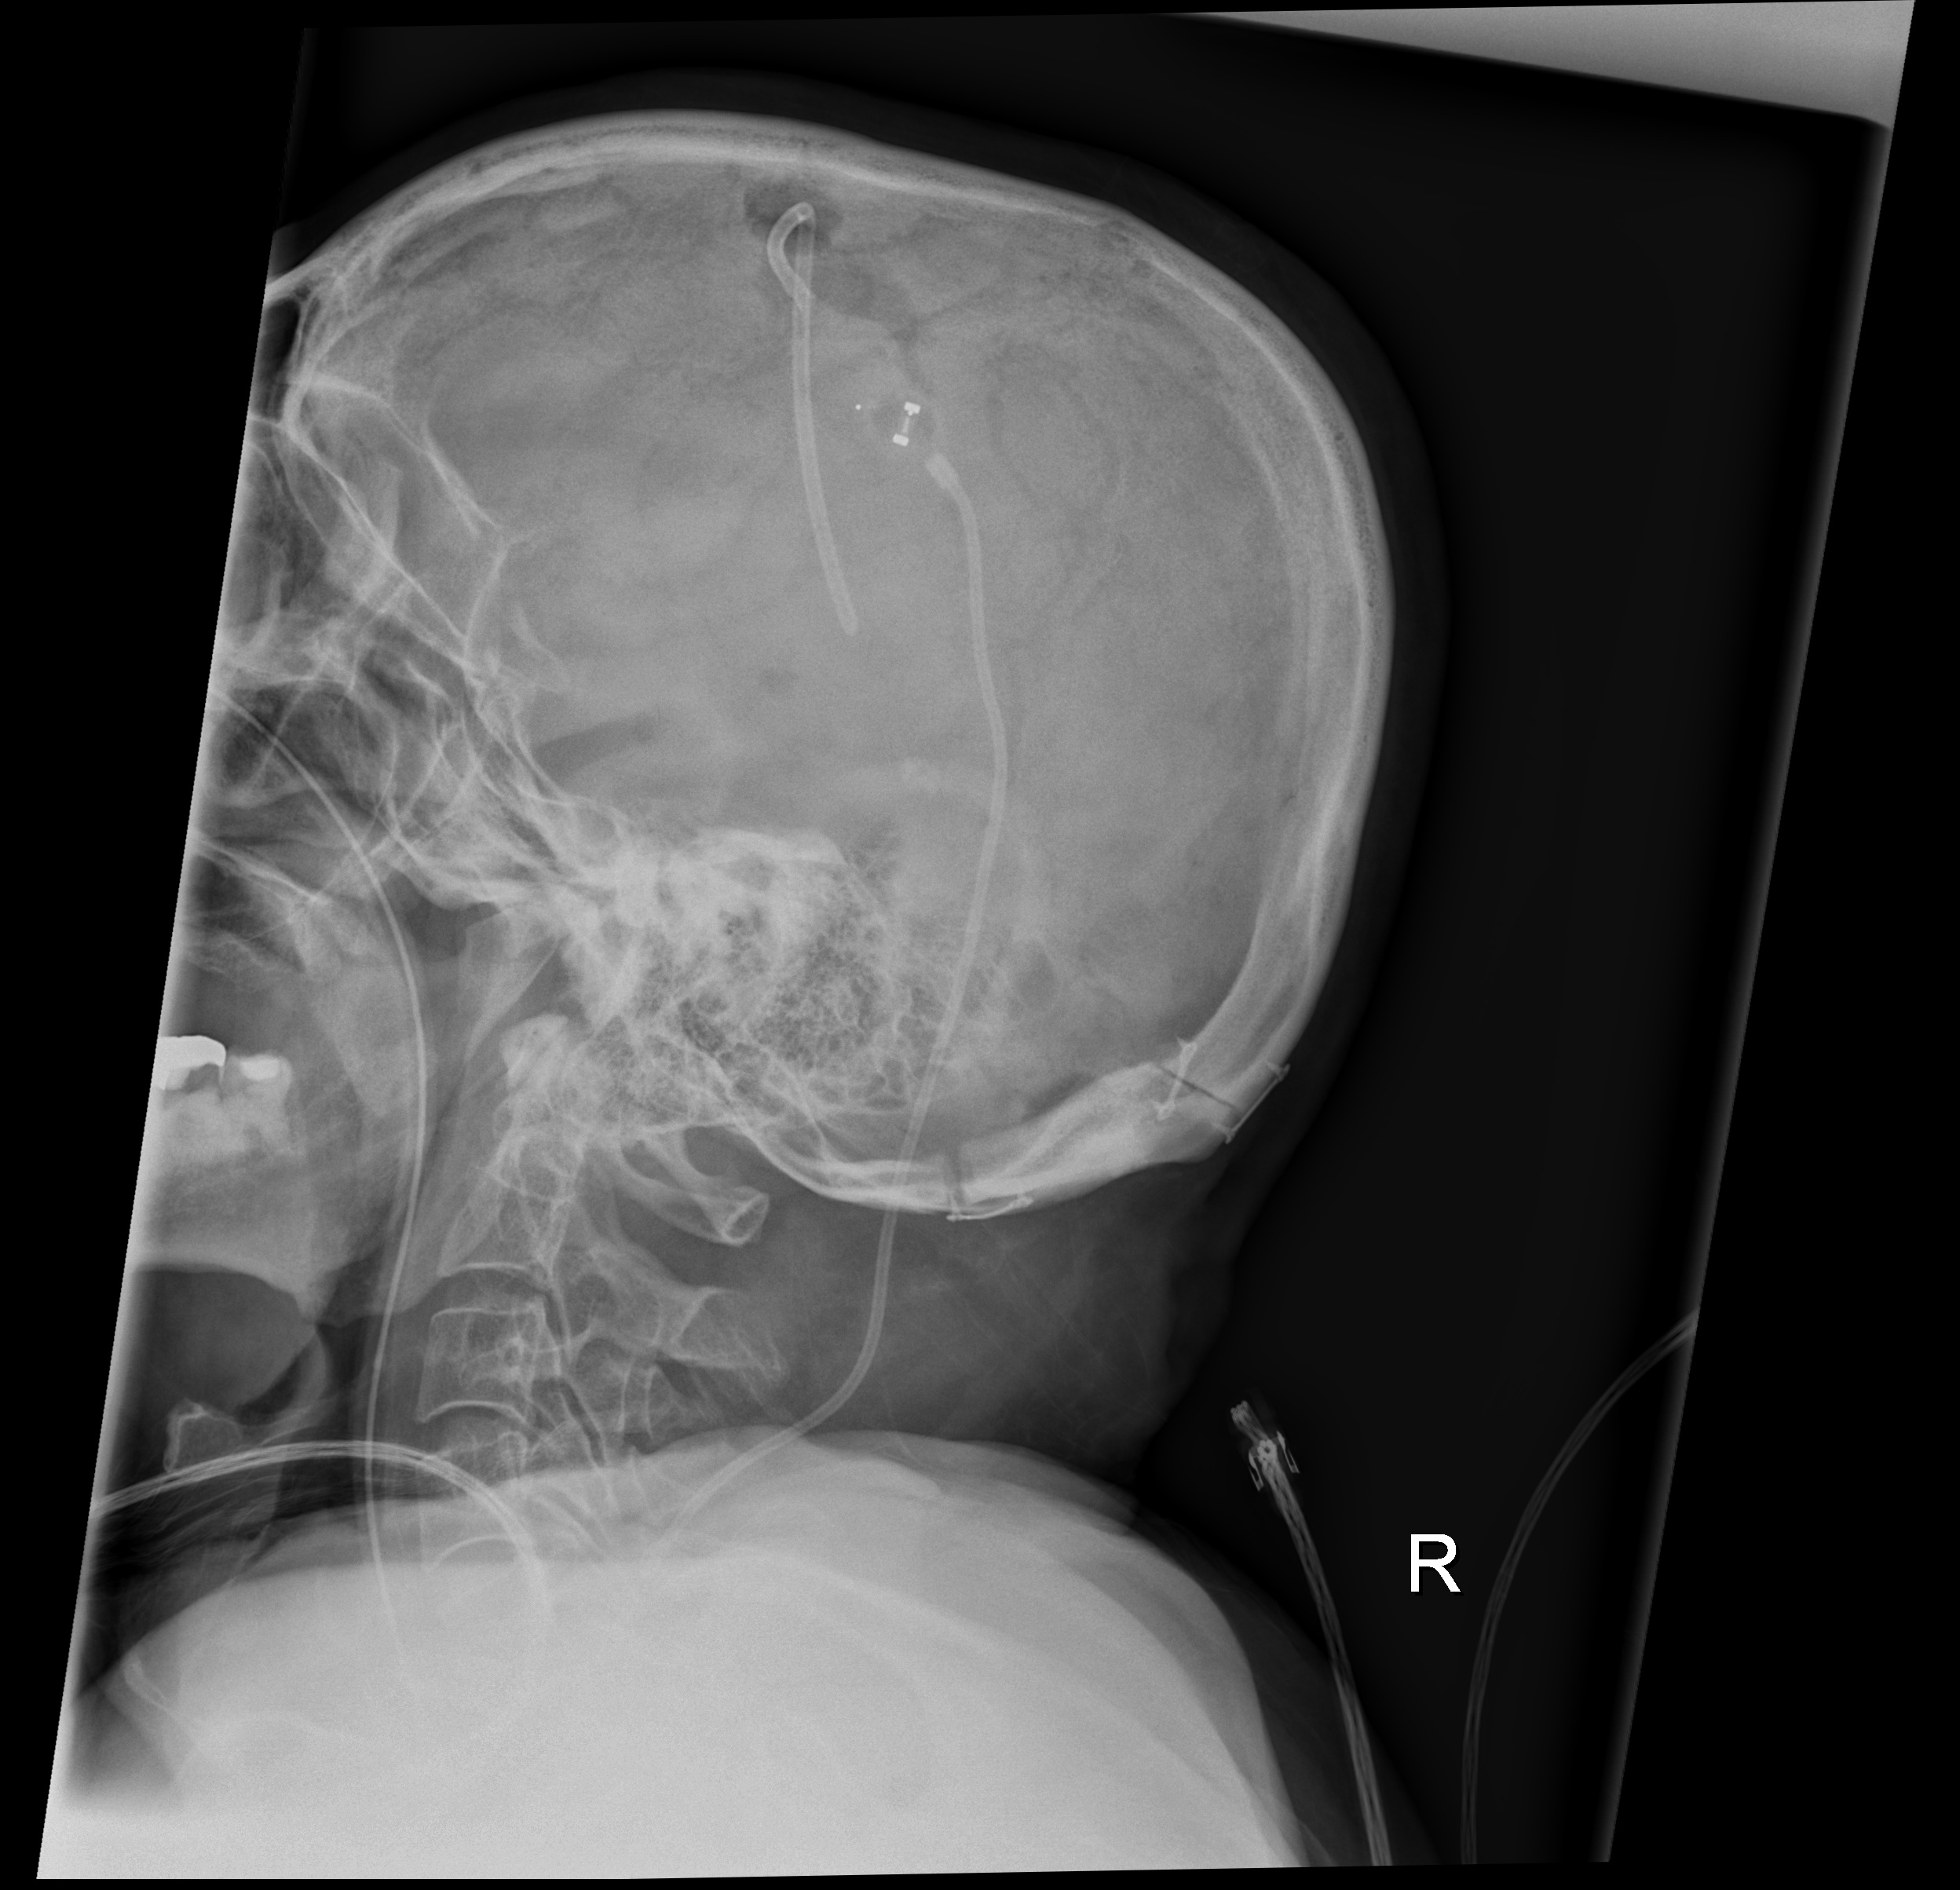Codman Certas: (840, 374, 948, 471)
